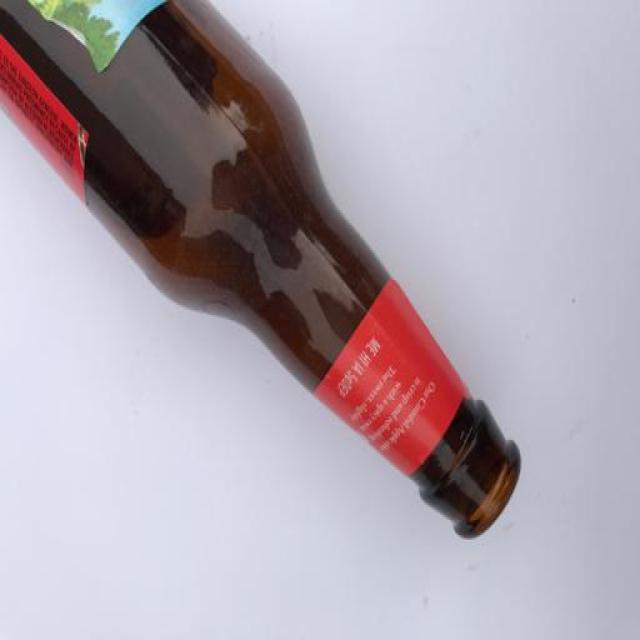Glass: (0, 0, 526, 546)
